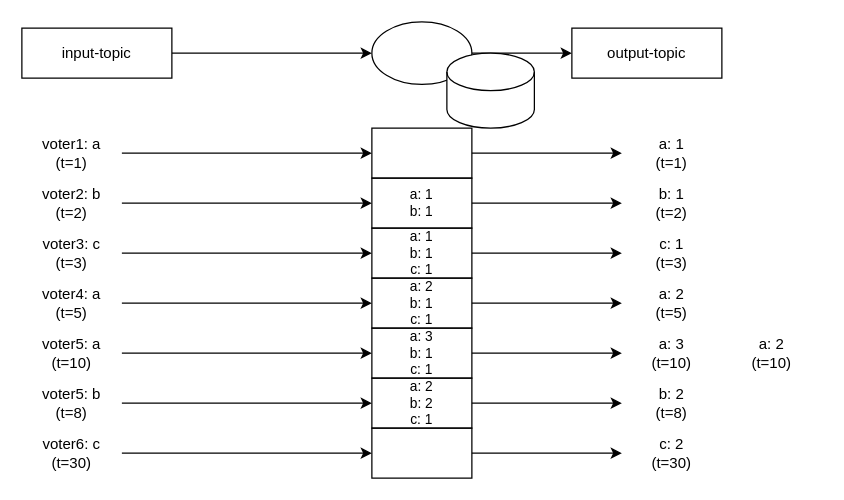
The diagram is 844 pixels wide and 500 high, and some of its shapes have lost their labels. The centre of each missing label's shape, as x and y in pixels:
"a: 1" goes at (421,152).
"a: 2 b: 2 c: 2" goes at (421,452).
"Agg Count" goes at (421,52).
"KeyValueStore" goes at (490,90).
